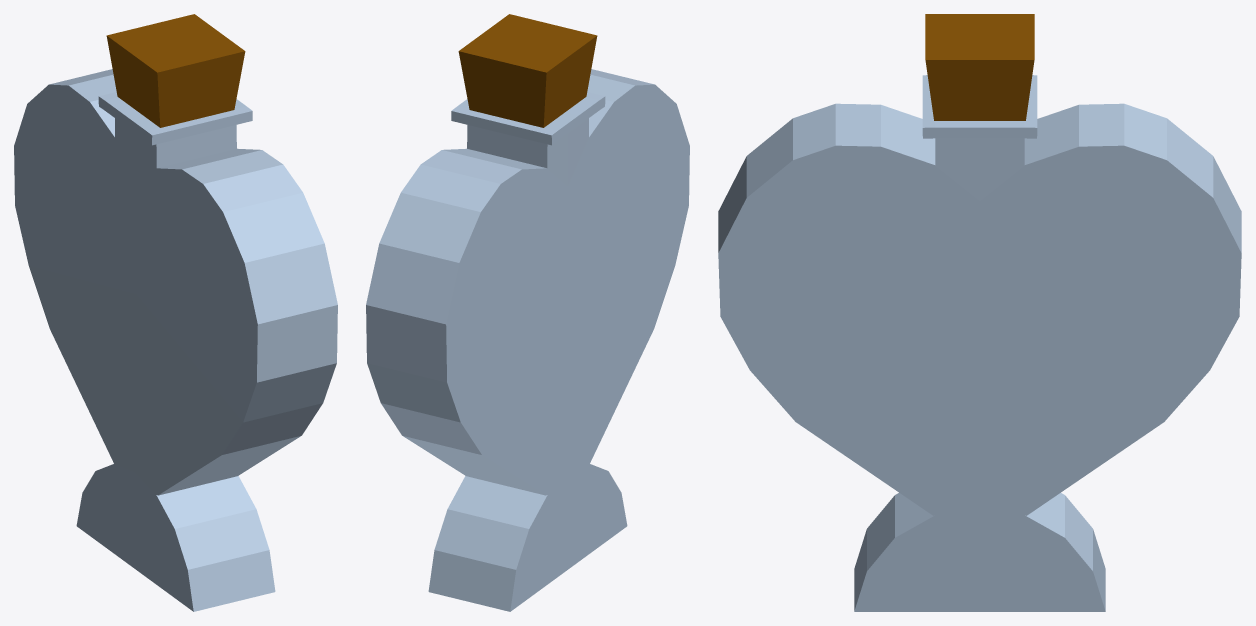
Rendered from lovepotion.fbx.
The picture shows the model from 3 angles, left to right: view 1: azimuth 30°, elevation 25°; view 2: azimuth 150°, elevation 25°; view 3: azimuth 270°, elevation 25°; orthographic projection. The views are drawn at different scales.
Visible parts, largest first — view 1: Cube; view 2: Cube; view 3: Cube.
Boxes of the visible parts, <box> form: Cube: <box>14,14,337,611</box>; Cube: <box>366,14,689,611</box>; Cube: <box>718,14,1241,611</box>.
Bounding box in the file's own units: 98.61 × 483 × 414.
